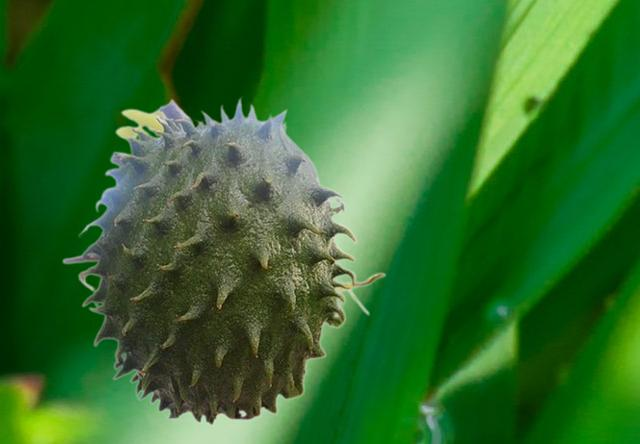guyabano: (61, 95, 386, 426)
